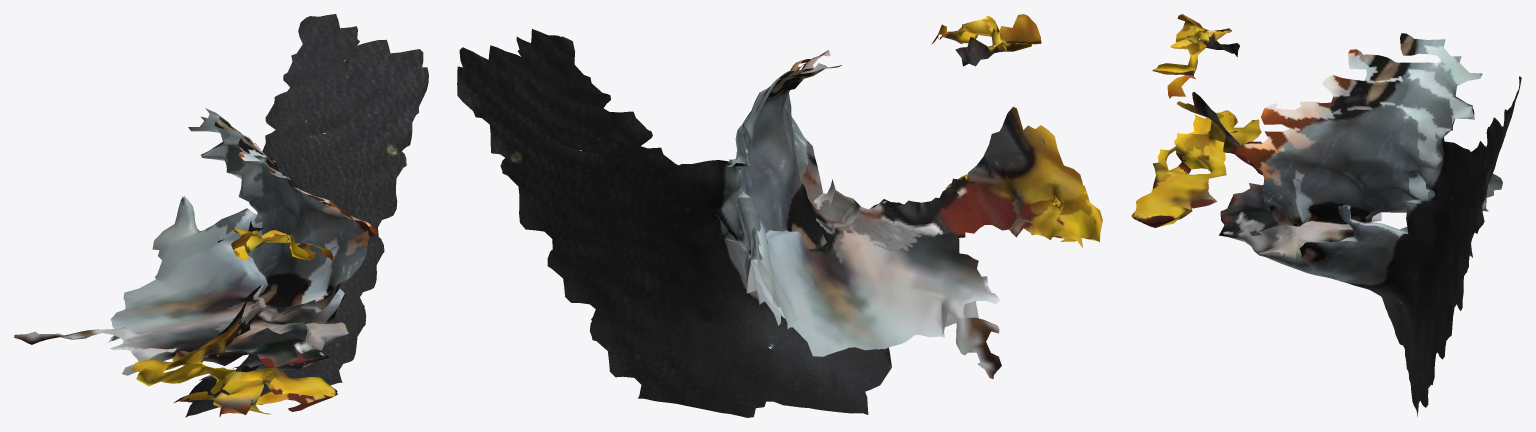
The model's file is scan_20260927_201330_10956.glb.
The picture shows the model from 3 angles, left to right: view 1: azimuth 30°, elevation 25°; view 2: azimuth 150°, elevation 25°; view 3: azimuth 270°, elevation 25°; orthographic projection. The views are drawn at different scales.
Parts seen in each view (by area): view 1: MobileScan3D_Textured; view 2: MobileScan3D_Textured; view 3: MobileScan3D_Textured.
Part boxes in pixels (x1,y1,x2,y2): MobileScan3D_Textured: (14,14,428,417); MobileScan3D_Textured: (457,14,1102,417); MobileScan3D_Textured: (1131,14,1521,416).
Bounding box in the file's own units: 0.1205 × 0.0885 × 0.0901.
1 material, 1 textured.
